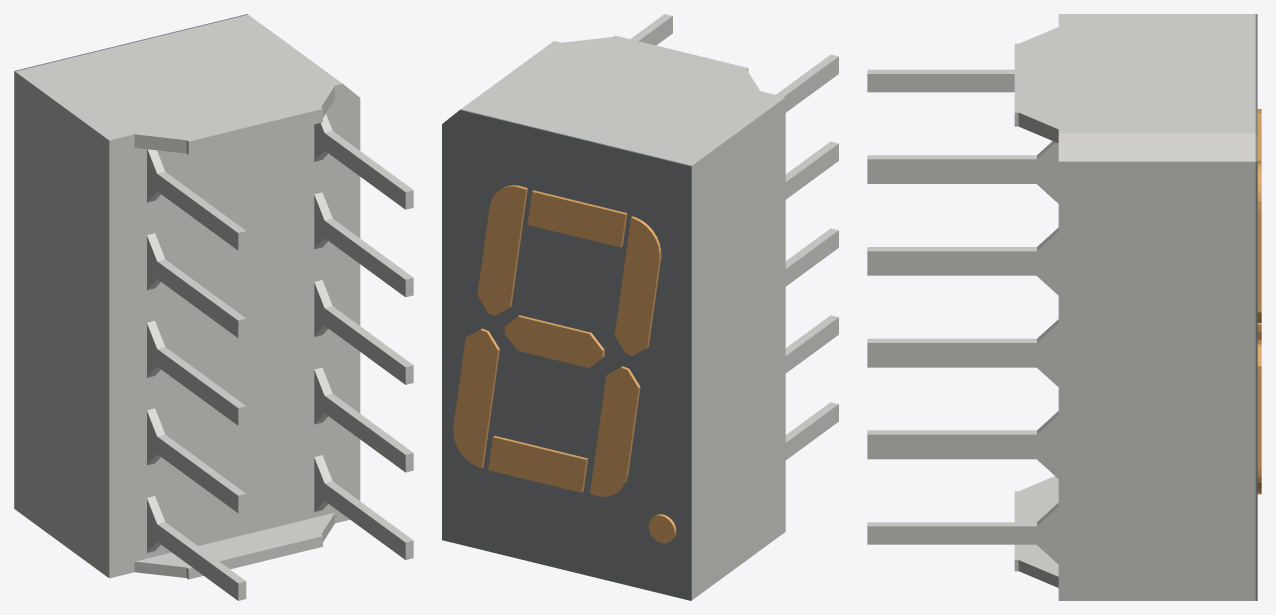
File: HDSP-A401.glb
3 renders of one model, left to right at view 1: azimuth 30°, elevation 25°; view 2: azimuth 150°, elevation 25°; view 3: azimuth 270°, elevation 25°, orthographic. The views are drawn at different scales.
Parts seen in each view (by area): view 1: Shape_IndexedFaceSet.010, Shape_IndexedFaceSet.100, Shape_IndexedFaceSet.143, Shape_IndexedFaceSet.016, Shape_IndexedFaceSet.015, Shape_IndexedFaceSet.017, Shape_IndexedFaceSet.090, Shape_IndexedFaceSet.138, Shape_IndexedFaceSet.112, Shape_IndexedFaceSet.119, Shape_IndexedFaceSet.127, Shape_IndexedFaceSet.142 (+18 smaller); view 2: Shape_IndexedFaceSet.164, Shape_IndexedFaceSet.100, Shape_IndexedFaceSet.143, Shape_IndexedFaceSet.214, Shape_IndexedFaceSet.218, Shape_IndexedFaceSet.212, Shape_IndexedFaceSet.216, Shape_IndexedFaceSet.217, Shape_IndexedFaceSet.213, Shape_IndexedFaceSet.219, Shape_IndexedFaceSet.142, Shape_IndexedFaceSet.119 (+4 smaller); view 3: Shape_IndexedFaceSet.097, Shape_IndexedFaceSet.143, Shape_IndexedFaceSet.098, Shape_IndexedFaceSet.117, Shape_IndexedFaceSet.001, Shape_IndexedFaceSet.107, Shape_IndexedFaceSet.123, Shape_IndexedFaceSet.133, Shape_IndexedFaceSet.140, Shape_IndexedFaceSet.017, Shape_IndexedFaceSet.145, Shape_IndexedFaceSet.114 (+15 smaller).
Part boxes in pixels (x1,y1,x2,y2): Shape_IndexedFaceSet.010: [134, 99, 334, 561]; Shape_IndexedFaceSet.100: [15, 72, 109, 577]; Shape_IndexedFaceSet.143: [15, 14, 341, 141]; Shape_IndexedFaceSet.016: [109, 148, 134, 567]; Shape_IndexedFaceSet.015: [335, 94, 360, 512]; Shape_IndexedFaceSet.017: [135, 513, 334, 568]; Shape_IndexedFaceSet.090: [188, 109, 322, 154]; Shape_IndexedFaceSet.138: [157, 349, 238, 425]; Shape_IndexedFaceSet.112: [157, 524, 238, 600]; Shape_IndexedFaceSet.119: [157, 437, 238, 512]; Shape_IndexedFaceSet.127: [157, 262, 238, 337]; Shape_IndexedFaceSet.142: [157, 174, 238, 250]; Shape_IndexedFaceSet.164: [442, 110, 691, 600]; Shape_IndexedFaceSet.100: [692, 97, 785, 599]; Shape_IndexedFaceSet.143: [461, 35, 784, 165]; Shape_IndexedFaceSet.214: [614, 217, 659, 355]; Shape_IndexedFaceSet.218: [477, 186, 525, 315]; Shape_IndexedFaceSet.212: [590, 367, 638, 496]; Shape_IndexedFaceSet.216: [453, 330, 497, 468]; Shape_IndexedFaceSet.217: [488, 437, 586, 492]; Shape_IndexedFaceSet.213: [527, 192, 625, 247]; Shape_IndexedFaceSet.219: [504, 316, 602, 368]; Shape_IndexedFaceSet.142: [784, 57, 838, 112]; Shape_IndexedFaceSet.119: [785, 317, 838, 373]; Shape_IndexedFaceSet.097: [1058, 161, 1255, 600]; Shape_IndexedFaceSet.143: [1014, 14, 1255, 133]; Shape_IndexedFaceSet.098: [1058, 133, 1255, 161]; Shape_IndexedFaceSet.117: [867, 434, 1036, 452]; Shape_IndexedFaceSet.001: [867, 159, 1036, 177]; Shape_IndexedFaceSet.107: [867, 526, 1036, 544]; Shape_IndexedFaceSet.123: [867, 251, 1036, 269]; Shape_IndexedFaceSet.133: [867, 343, 1036, 361]; Shape_IndexedFaceSet.140: [867, 74, 1014, 92]; Shape_IndexedFaceSet.017: [1014, 476, 1058, 576]; Shape_IndexedFaceSet.145: [1255, 161, 1257, 600]; Shape_IndexedFaceSet.114: [867, 453, 1036, 459].
Bounding box in the file's own units: 3 × 5 × 3.9.
